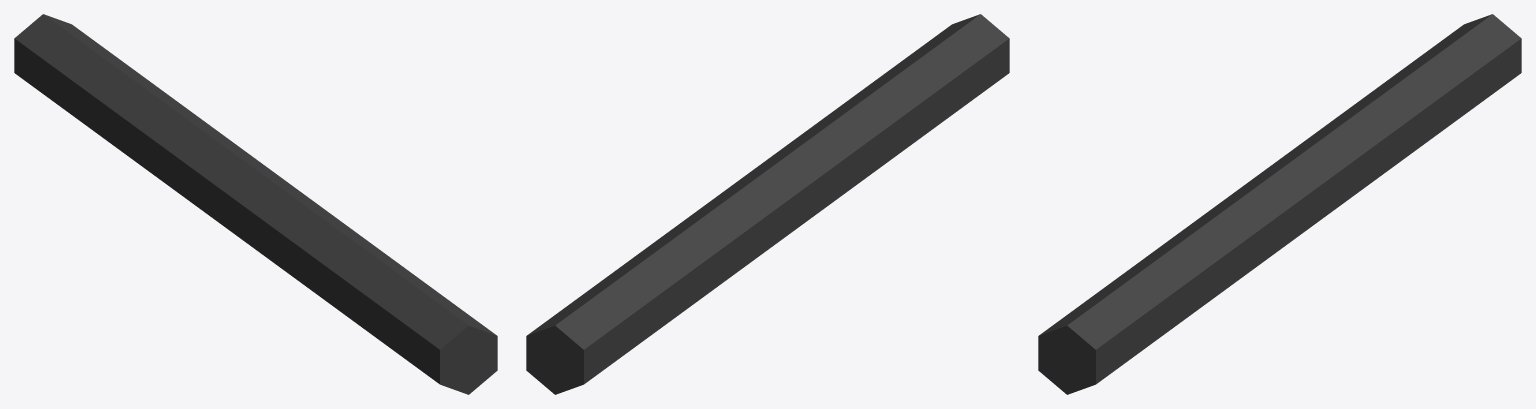
The picture shows the model from 3 angles, left to right: view 1: azimuth 30°, elevation 25°; view 2: azimuth 150°, elevation 25°; view 3: azimuth 330°, elevation 25°; orthographic projection.
Visible parts, largest first — view 1: Pen; view 2: Pen; view 3: Pen.
Part boxes in pixels (left/top/right/bottom): Pen: left=14, top=14, right=497, bottom=394; Pen: left=526, top=14, right=1009, bottom=394; Pen: left=1038, top=14, right=1521, bottom=394.
Size of the model in its own units: 1.56 by 1.8 by 20.
